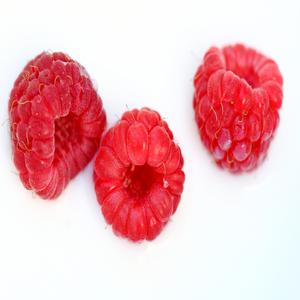raspb: (5, 32, 286, 251)
